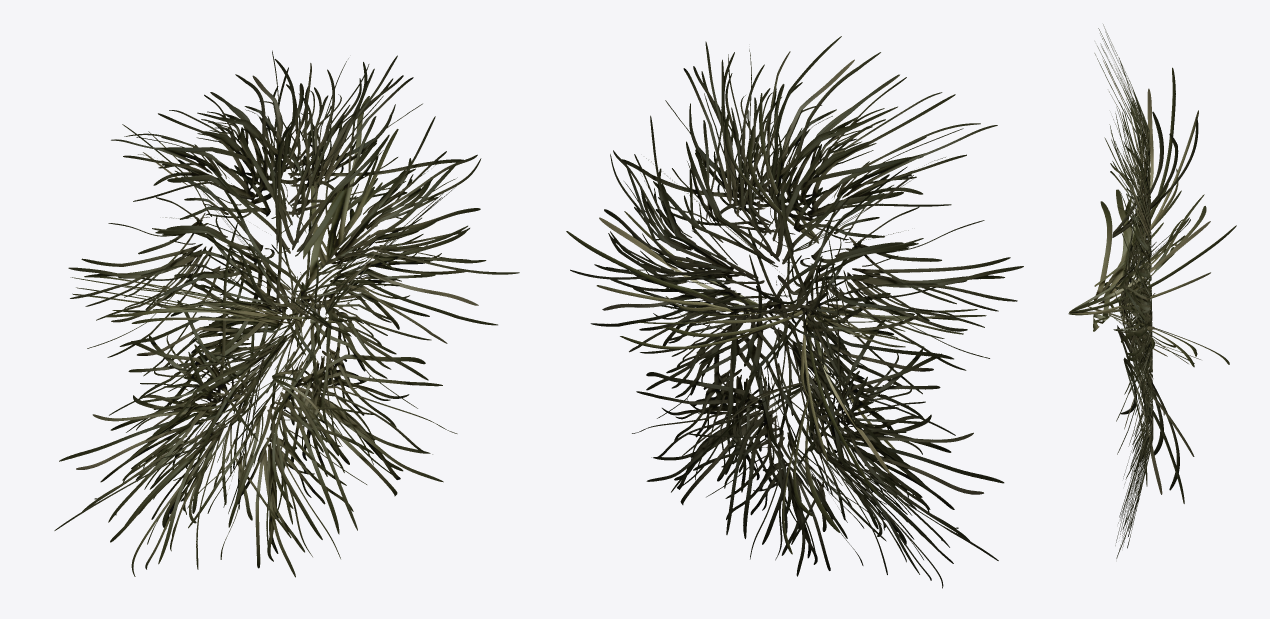
Rendered from TI_Grass_05_01_a.fbx.
3 renders of one model, left to right at view 1: azimuth 30°, elevation 25°; view 2: azimuth 150°, elevation 25°; view 3: azimuth 270°, elevation 25°, orthographic. The views are drawn at different scales.
Parts seen in each view (by area): view 1: TI_Grass_05_01_a; view 2: TI_Grass_05_01_a; view 3: TI_Grass_05_01_a.
Part boxes in pixels (left/top/right/bottom): TI_Grass_05_01_a: left=54, top=50, right=519, bottom=577; TI_Grass_05_01_a: left=566, top=36, right=1023, bottom=588; TI_Grass_05_01_a: left=1068, top=24, right=1236, bottom=558.
Bounding box in the file's own units: 2.24 × 2.5 × 0.9084.
